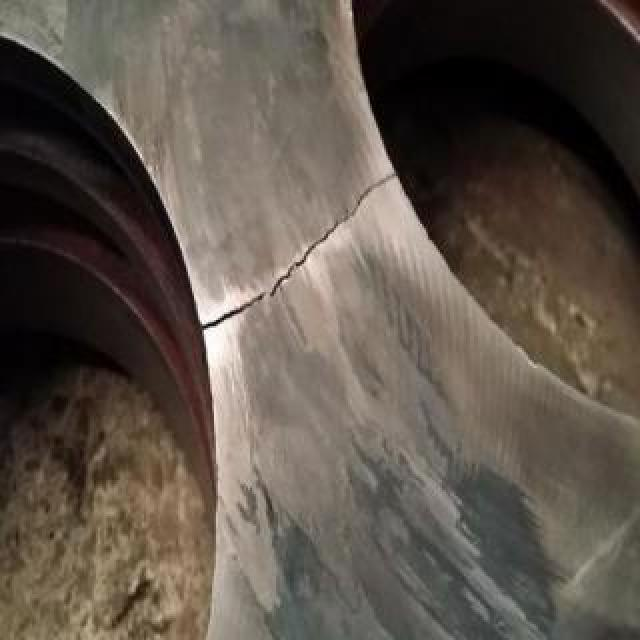crack: (190, 162, 402, 348)
